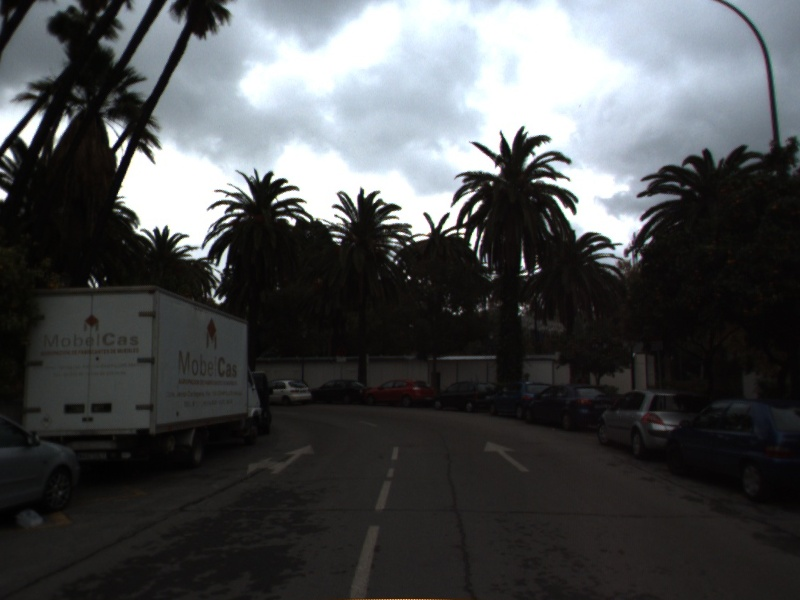STRAIGHT: (481, 439, 532, 474)
STRAIGHT_LEFT: (244, 443, 317, 477)
